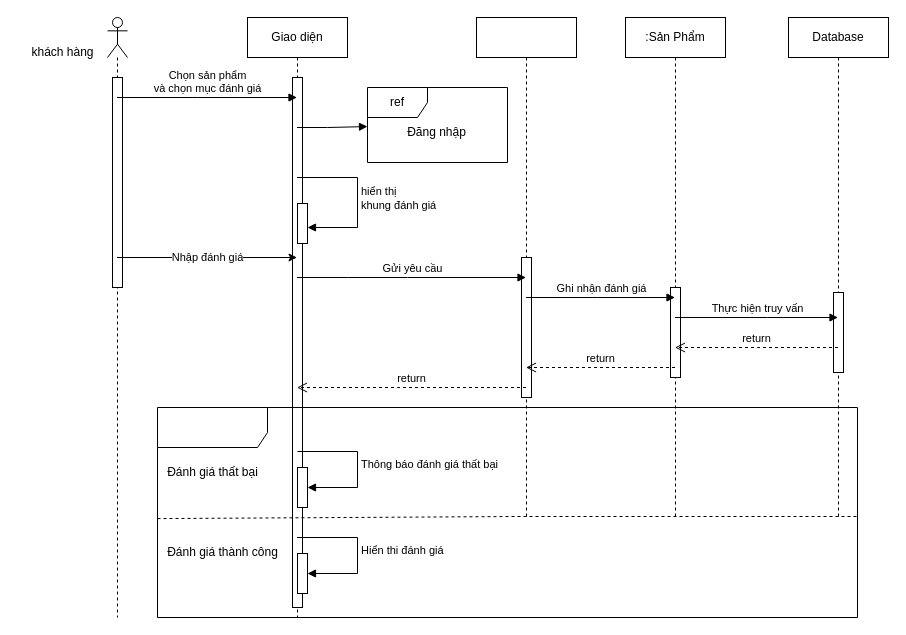
Some shapes in this 906 by 635 pixel diagram are drawn without their labels. Each missing label, with the box of its shape:
Controller: (476, 16, 576, 518)
Trạng thái đánh giá: (156, 406, 858, 618)
